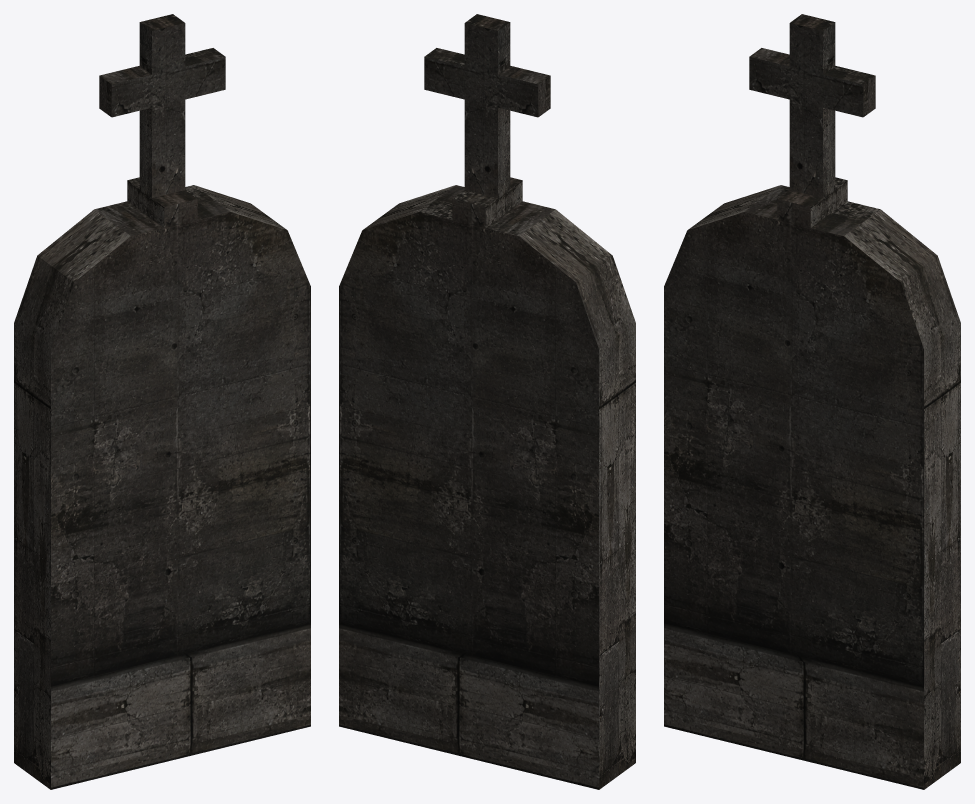
Rendered from Tombstone01.fbx.
3 views of the same model, side by side, from view 1: azimuth 30°, elevation 25°; view 2: azimuth 150°, elevation 25°; view 3: azimuth 330°, elevation 25° (orthographic).
Parts seen in each view (by area): view 1: Tombstone01; view 2: Tombstone01; view 3: Tombstone01.
Boxes of the visible parts, <box> form: Tombstone01: <box>14,14,310,789</box>; Tombstone01: <box>339,14,635,789</box>; Tombstone01: <box>664,14,960,789</box>.
Bounding box in the file's own units: 0.2519 × 0.6683 × 0.0617.
